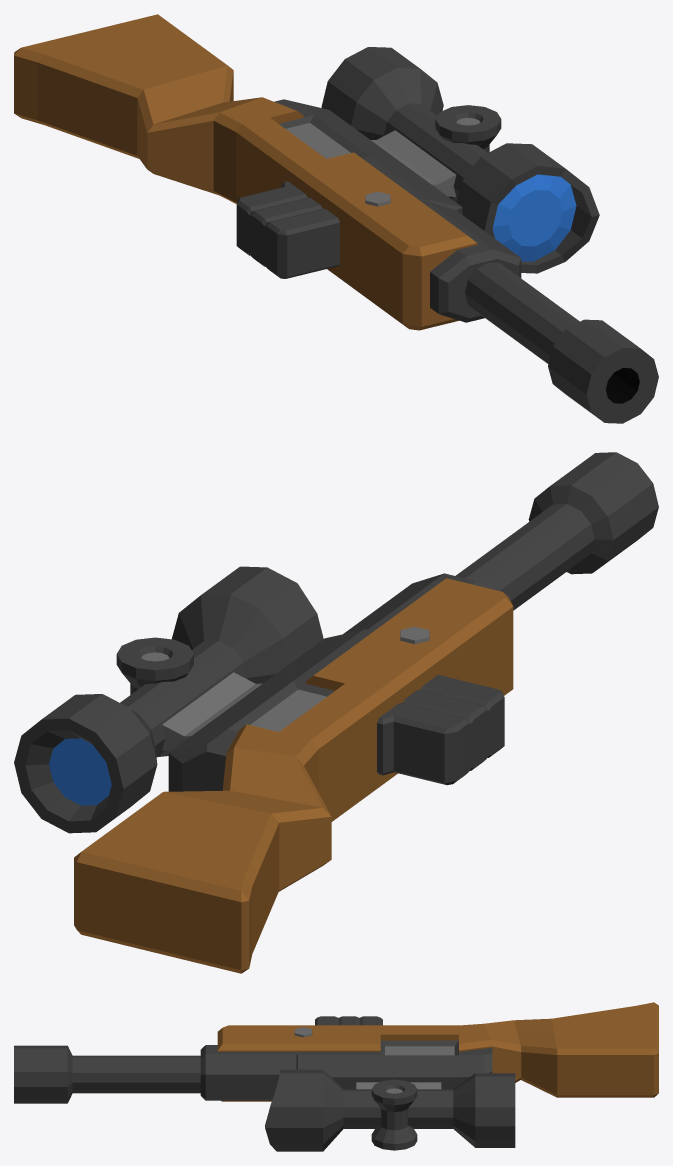
File: sniper.fbx
3 renders of one model, top to bottom at view 1: azimuth 30°, elevation 25°; view 2: azimuth 150°, elevation 25°; view 3: azimuth 270°, elevation 25°, orthographic. The views are drawn at different scales.
Visible parts, largest first — view 1: 8; view 2: 8; view 3: 8.
Part boxes in pixels (left/top/right/bottom): 8: left=14, top=14, right=658, bottom=423; 8: left=14, top=452, right=658, bottom=973; 8: left=14, top=1002, right=658, bottom=1151.
Size of the model in its own units: 2.25 by 0.8537 by 0.2873.
